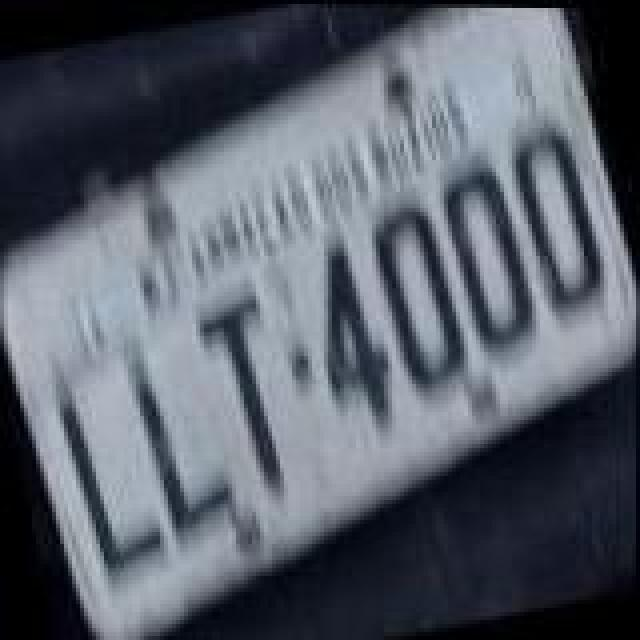4: (294, 228, 406, 452)
L: (52, 374, 168, 582), (132, 354, 240, 538)
O: (368, 190, 476, 394), (440, 156, 548, 360), (504, 116, 612, 312)
T: (192, 284, 300, 496)
